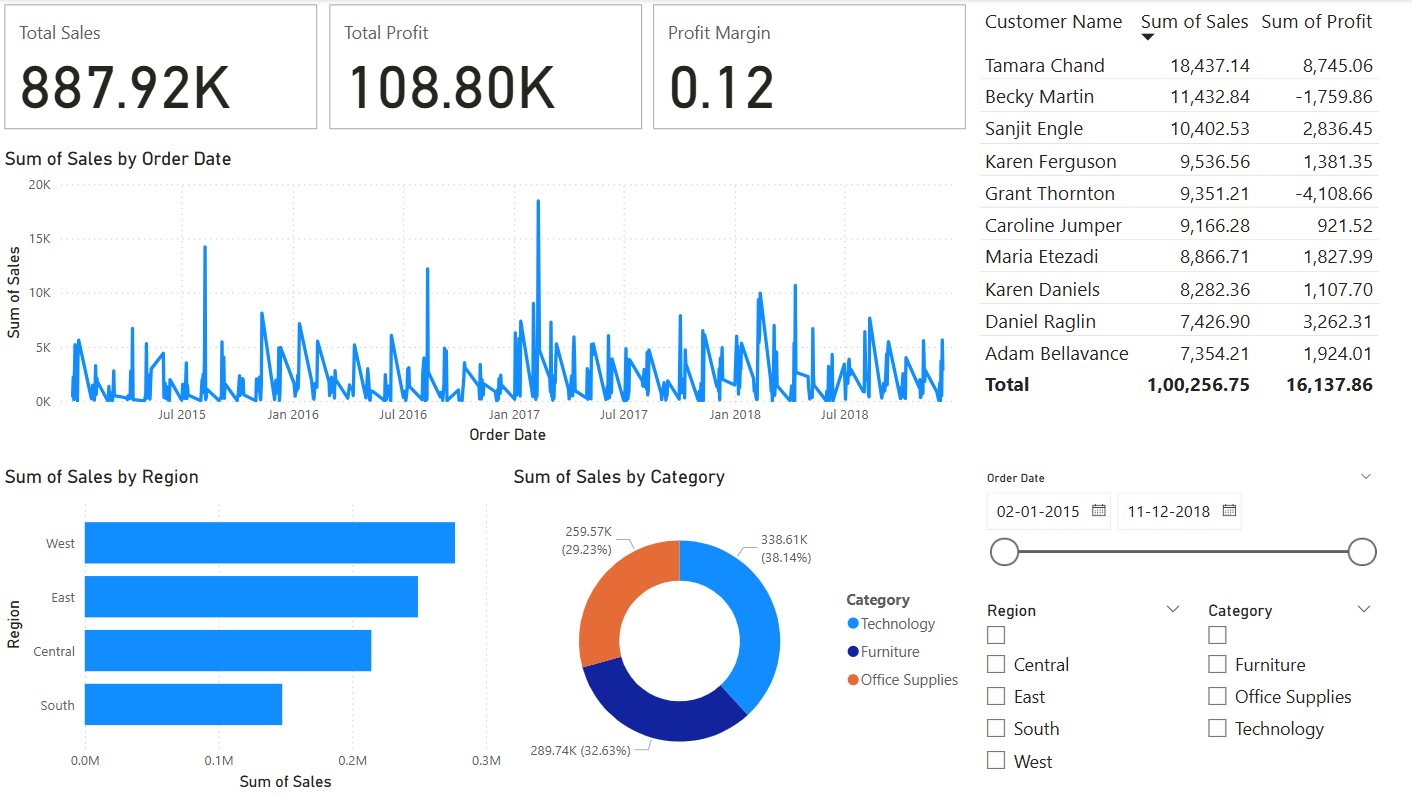

This screenshot's page, from the dashboard's own definition file:
{"tool":"powerbi","page":{"name":"Page 1","canvas":[1280,720],"ordinal":0},"visuals":[{"type":"cardVisual","fields":{"Data":["superstore.Total Sales"]},"box":[0,0,293.7,123.5],"z":0},{"type":"cardVisual","fields":{"Data":["superstore.Total Profit"]},"box":[293.7,0,293.7,123.5],"z":1000},{"type":"cardVisual","fields":{"Data":["superstore.Profit Margin"]},"box":[587.3,0,293.7,123.5],"z":2000},{"type":"lineChart","fields":{"Category":["superstore.Order Date"],"Y":["superstore.Sales"]},"box":[0,134.5,881,273.1],"z":3000},{"type":"barChart","fields":{"Category":["superstore.Region"],"Y":["superstore.Sales"]},"box":[0,421.3,459.7,299.1],"z":4000},{"type":"donutChart","fields":{"Category":["superstore.Category"],"Y":["superstore.Sales"]},"box":[459.7,421.3,421.3,299.1],"z":5000},{"type":"tableEx","fields":{"Values":["superstore.Customer Name","superstore.Sales","superstore.Profit"]},"box":[881,0,399.3,378.7],"z":6000},{"type":"slicer","fields":{"Values":["superstore.Region"]},"box":[881,539.3,200.3,181.1],"z":7000},{"type":"slicer","fields":{"Values":["superstore.Category"]},"box":[1081.3,539.3,172.9,181.1],"z":8000},{"type":"slicer","fields":{"Values":["superstore.Order Date"]},"box":[881,421.3,373.2,105.7],"z":9000}]}

Visuals, with their boxes in screenshot pixels (x1, y1, x2, y2), scaled from the page's 1280x720 canvas onto the 1412x795 screenshot:
cardVisual - superstore.Total Sales: region(0, 0, 324, 136)
cardVisual - superstore.Total Profit: region(324, 0, 648, 136)
cardVisual - superstore.Profit Margin: region(648, 0, 972, 136)
lineChart - superstore.Order Date x superstore.Sales: region(0, 149, 972, 450)
barChart - superstore.Region x superstore.Sales: region(0, 465, 507, 794)
donutChart - superstore.Category x superstore.Sales: region(507, 465, 972, 794)
tableEx - superstore.Customer Name x superstore.Sales: region(972, 0, 1411, 418)
slicer - superstore.Region: region(972, 595, 1193, 794)
slicer - superstore.Category: region(1193, 595, 1384, 794)
slicer - superstore.Order Date: region(972, 465, 1384, 582)
